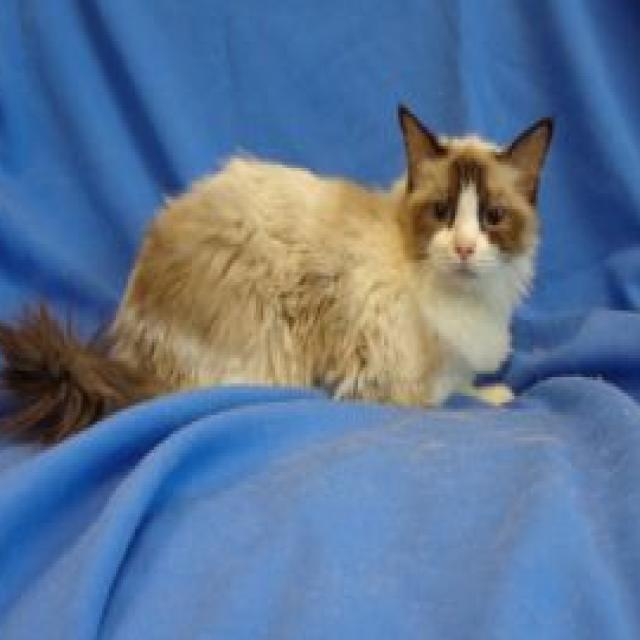Ragdoll: (0, 92, 559, 453)
